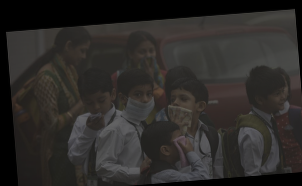mask_weared_incorrect: (125, 87, 153, 121), (132, 44, 157, 67)
with_mask: (167, 133, 186, 164)
without_mask: (168, 91, 194, 120), (82, 93, 112, 116), (264, 85, 285, 111), (71, 43, 89, 66)
